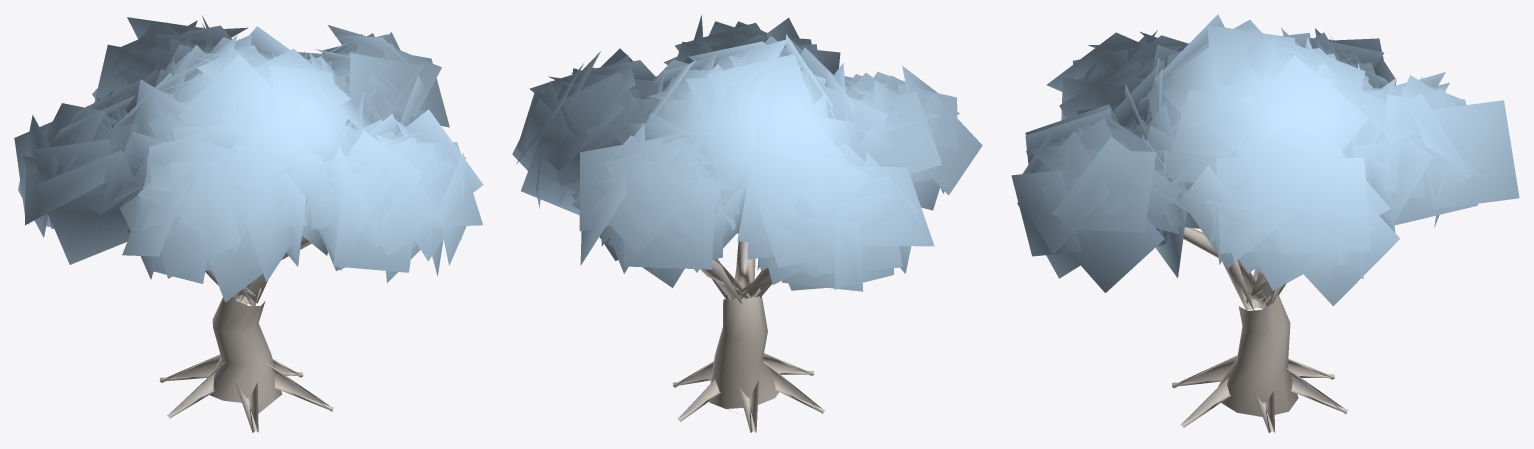
File: oak_old.gltf
The picture shows the model from 3 angles, left to right: view 1: azimuth 30°, elevation 25°; view 2: azimuth 150°, elevation 25°; view 3: azimuth 270°, elevation 25°; orthographic projection. The views are drawn at different scales.
Visible parts, largest first — view 1: oak_old_Leaf_Dark, oak_old_Bark_Dark; view 2: oak_old_Leaf_Dark, oak_old_Bark_Dark; view 3: oak_old_Leaf_Dark, oak_old_Bark_Dark.
Boxes of the visible parts, left/top/right/bottom form: oak_old_Leaf_Dark: left=14, top=15, right=483, bottom=302; oak_old_Bark_Dark: left=159, top=236, right=333, bottom=432; oak_old_Leaf_Dark: left=512, top=15, right=982, bottom=291; oak_old_Bark_Dark: left=673, top=241, right=824, bottom=432; oak_old_Leaf_Dark: left=1011, top=14, right=1519, bottom=306; oak_old_Bark_Dark: left=1172, top=227, right=1348, bottom=432.
Bounding box in the file's own units: 11.63 × 9.92 × 12.04.
